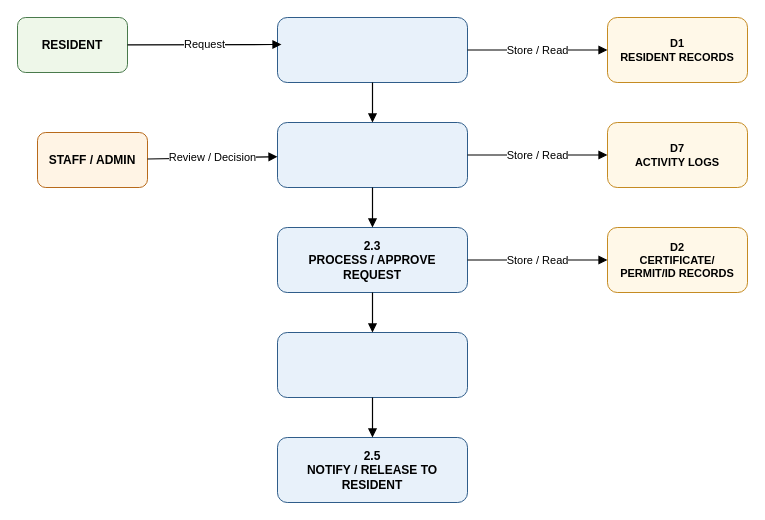
Image size: 765x520. Some labels were removed from this diagram. Here are the shapes that lost their labels. From the top down, the centre of each, then its label:
point (372, 49): 2.1 SUBMIT REQUEST
point (372, 155): 2.2 VERIFY RESIDENT INFORMATION
point (372, 365): 2.4 GENERATE DOCUMENT (CERTIFICATE/PERMIT)
